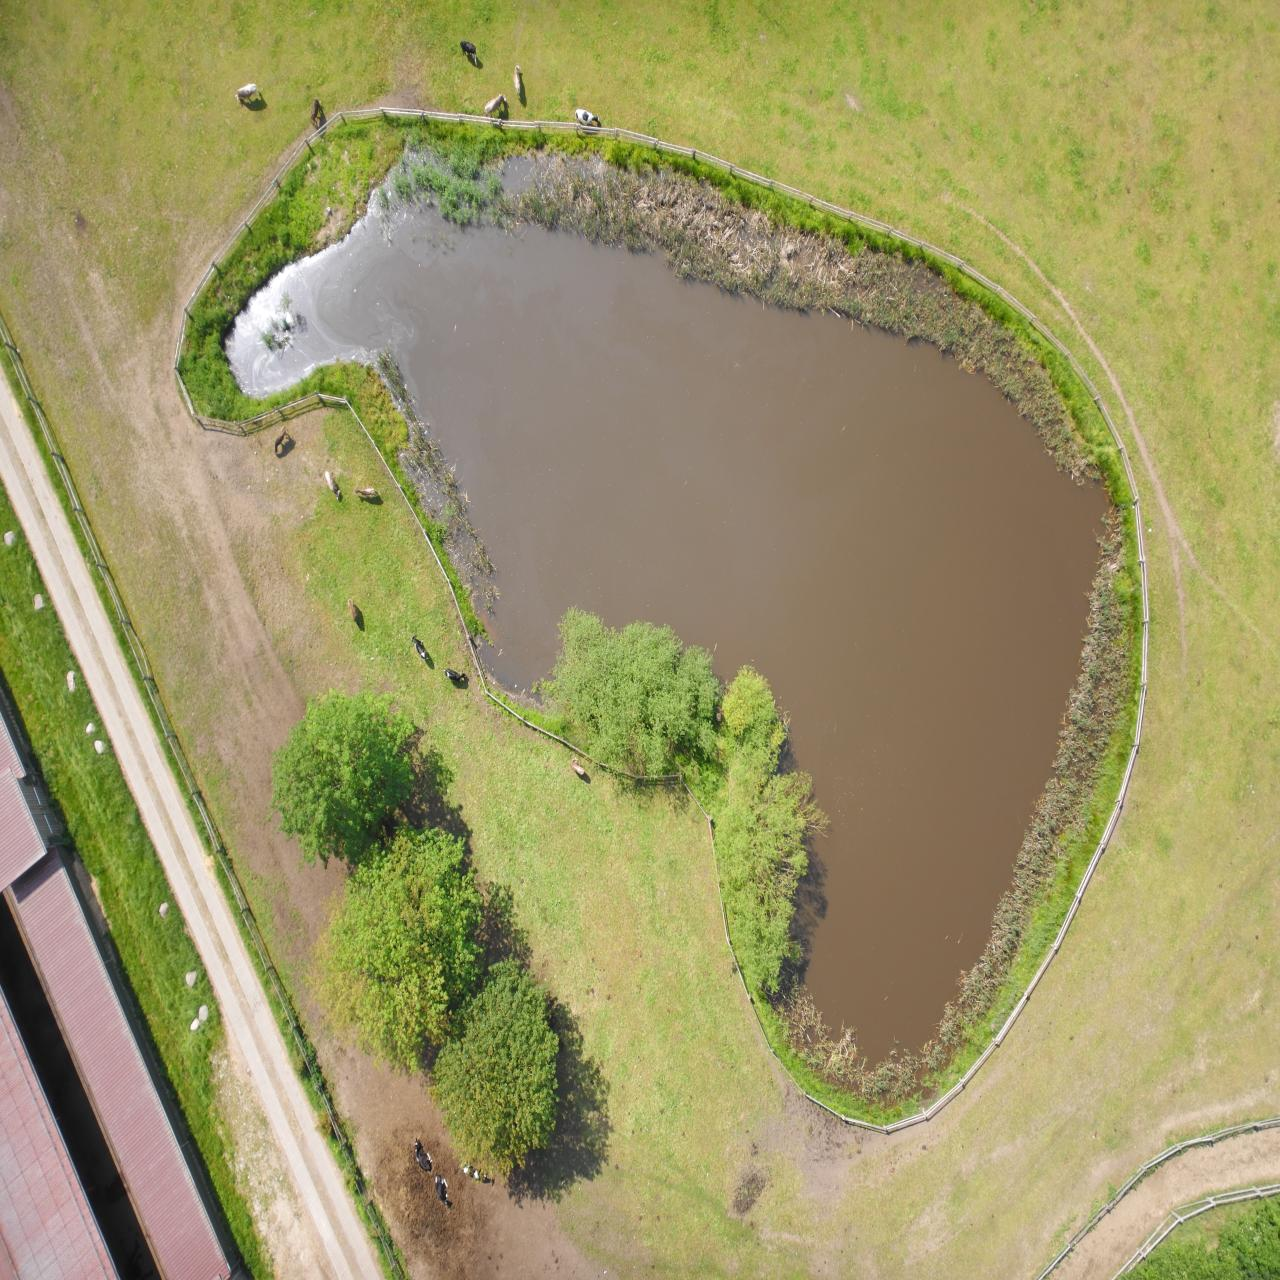cow: (847, 108, 865, 141), (1020, 1175, 1044, 1196), (802, 1214, 821, 1240), (939, 779, 955, 809), (831, 73, 845, 107), (792, 96, 816, 116), (917, 651, 932, 681), (851, 620, 869, 645), (774, 1166, 795, 1186), (681, 1155, 706, 1171), (992, 825, 1006, 853), (813, 597, 836, 612), (960, 1158, 971, 1182), (695, 504, 708, 523), (758, 1184, 765, 1216), (903, 783, 926, 792)
